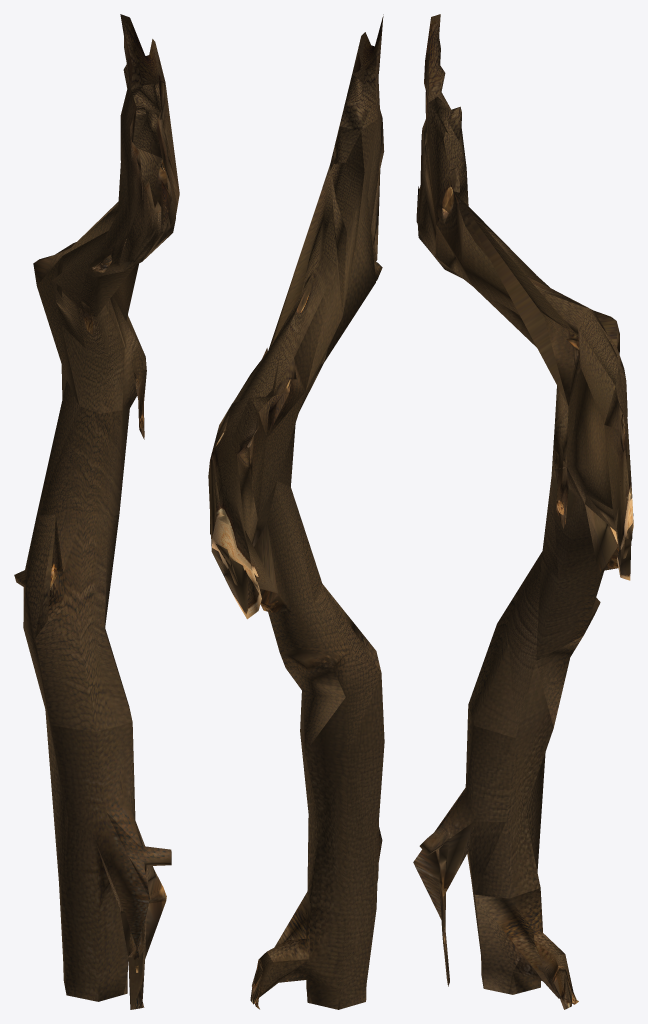
Rendered from Branch.fbx.
3 renders of one model, left to right at view 1: azimuth 30°, elevation 25°; view 2: azimuth 150°, elevation 25°; view 3: azimuth 270°, elevation 25°, orthographic. The views are drawn at different scales.
Parts seen in each view (by area): view 1: Branch; view 2: Branch; view 3: Branch.
Boxes of the visible parts, x1=… form: Branch: x1=14, y1=14, x2=179, y2=1009; Branch: x1=208, y1=14, x2=384, y2=1009; Branch: x1=413, y1=14, x2=633, y2=1009.
Bounding box in the file's own units: 15.01 × 100 × 20.81.
1 material, 1 textured.
